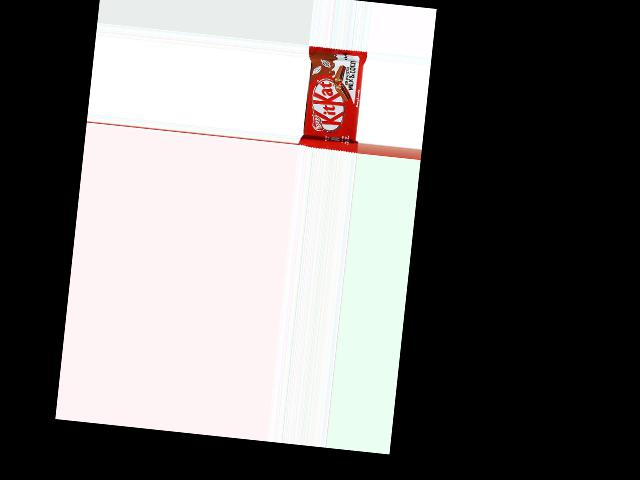chocolate: (298, 44, 368, 152)
